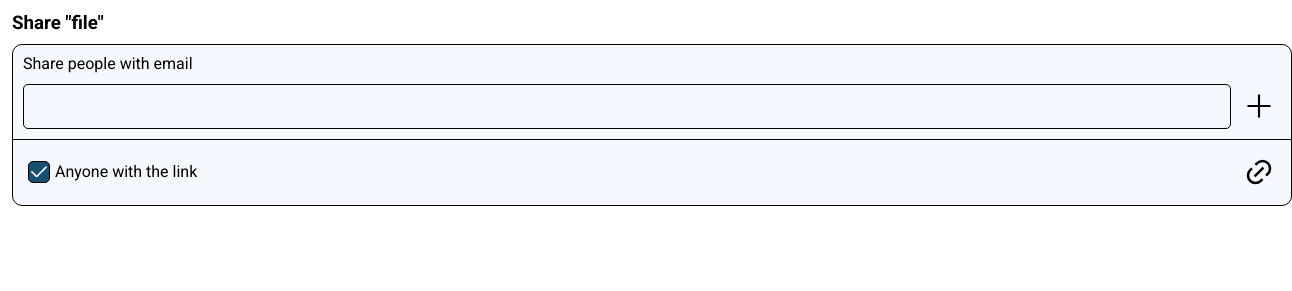
FileShare component › should render the file sharers if creating file sharer is successful
The image size is (1292, 291).
Type "email@email.com" into the field labelled "Share people with email" at (627, 106), box left=23, top=84, right=1231, bottom=129
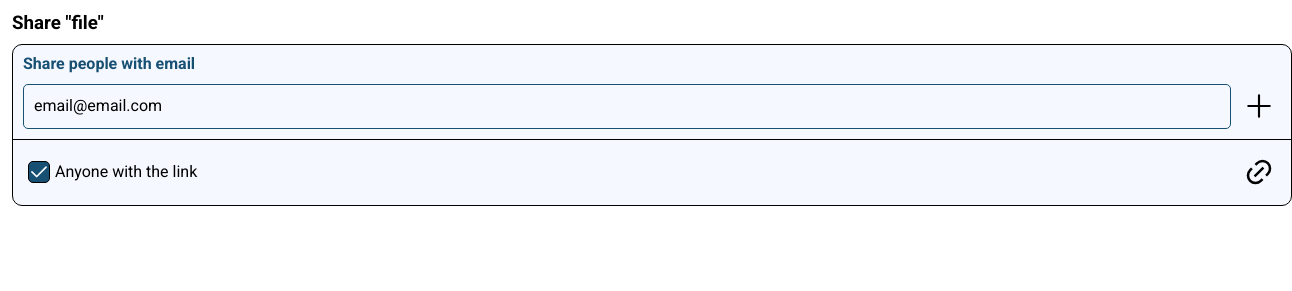
Click the button titled "submit" at (1258, 106), box left=1236, top=84, right=1281, bottom=129
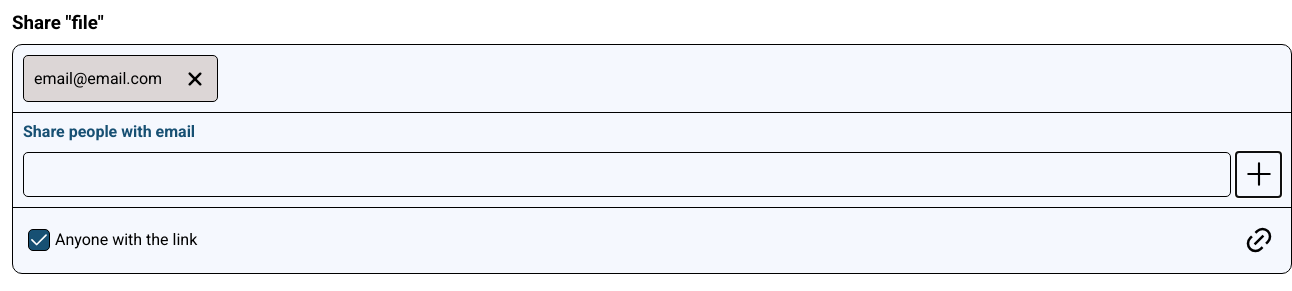
Type "test@email.com" into the field labelled "Share people with email" at (627, 174), box left=23, top=152, right=1231, bottom=197
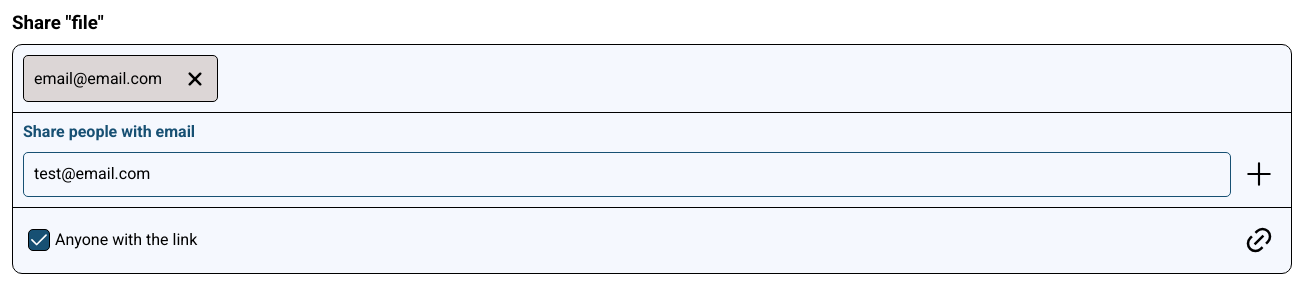
Click the button titled "submit" at (1258, 174), box left=1236, top=152, right=1281, bottom=197
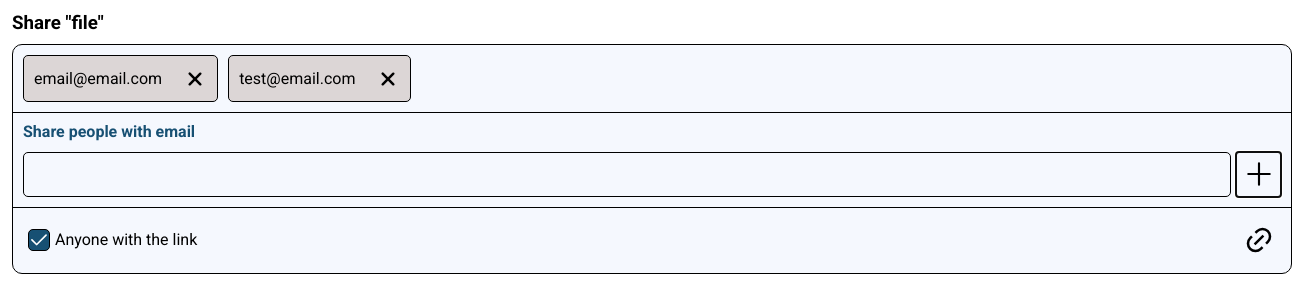
Result: the number of list items is 2 at left=23, top=56, right=218, bottom=102; left=228, top=56, right=411, bottom=102
Result: the field labelled "Share people with email" is empty at left=23, top=152, right=1231, bottom=197
